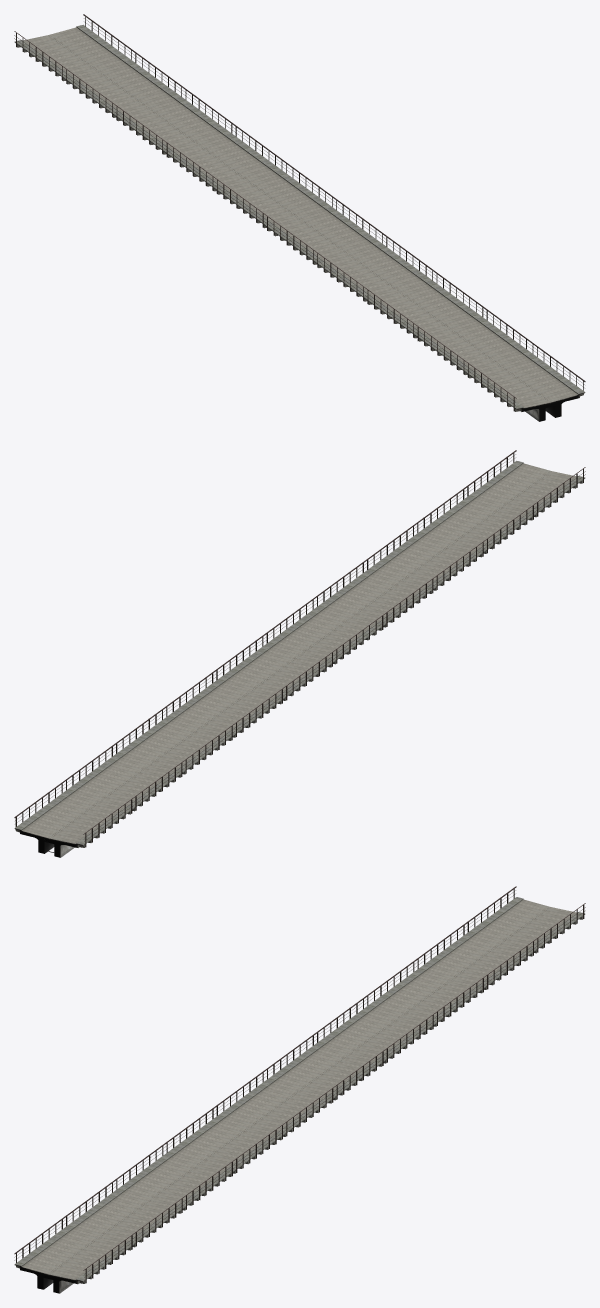
The model's file is KZDM_100m_zab.gltf.
3 views of the same model, one above another, from view 1: azimuth 30°, elevation 25°; view 2: azimuth 150°, elevation 25°; view 3: azimuth 330°, elevation 25° (orthographic).
Bounding box in the file's own units: 8.08 × 3.28 × 100.
1 material, 1 textured.
